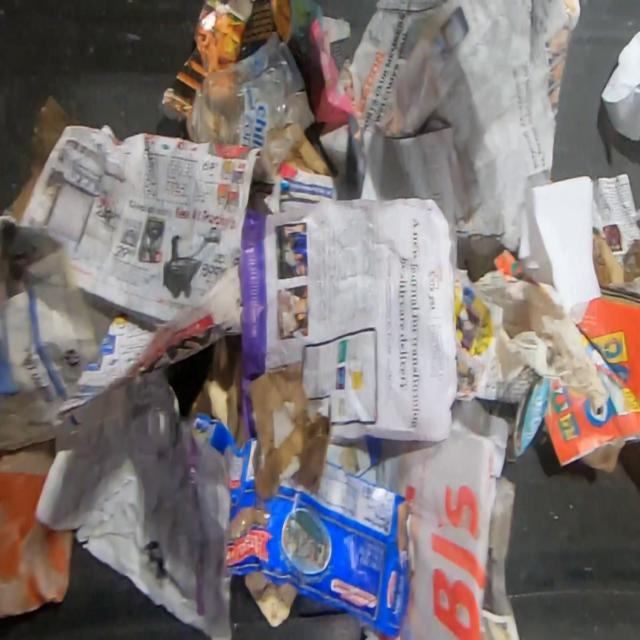cardboard: (192, 411, 418, 639), (10, 96, 70, 224)
rigid_plastic: (186, 31, 315, 168)
